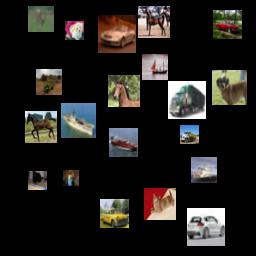automobile: (98, 15, 136, 53), (187, 208, 225, 246), (100, 199, 129, 228), (213, 10, 242, 39)
bird: (63, 170, 79, 186)
cat: (144, 188, 176, 220), (28, 171, 47, 190)
deer: (28, 6, 54, 32)
dog: (212, 70, 247, 105), (65, 21, 84, 40)
ship: (61, 103, 96, 138), (109, 128, 138, 157), (191, 157, 217, 183), (142, 54, 168, 80)
truck: (168, 81, 206, 119), (36, 69, 62, 95), (180, 125, 199, 144)
